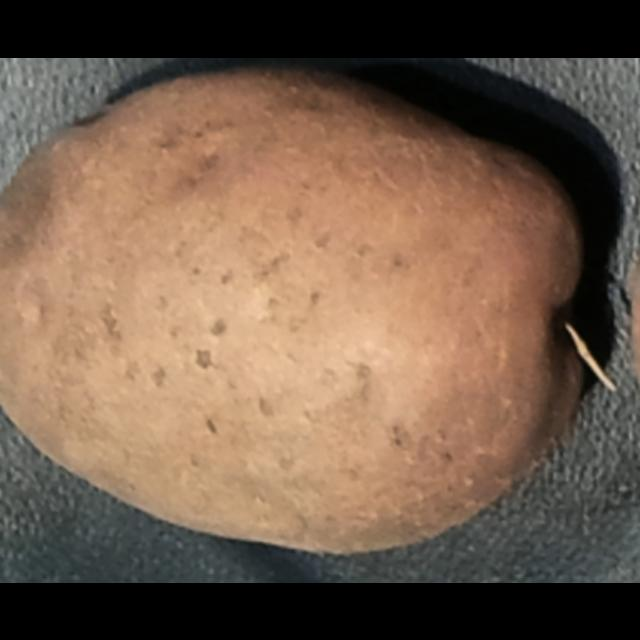Defected potato: (1, 58, 612, 570)
